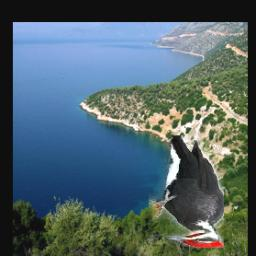Woodpecker: (149, 135, 224, 248)
